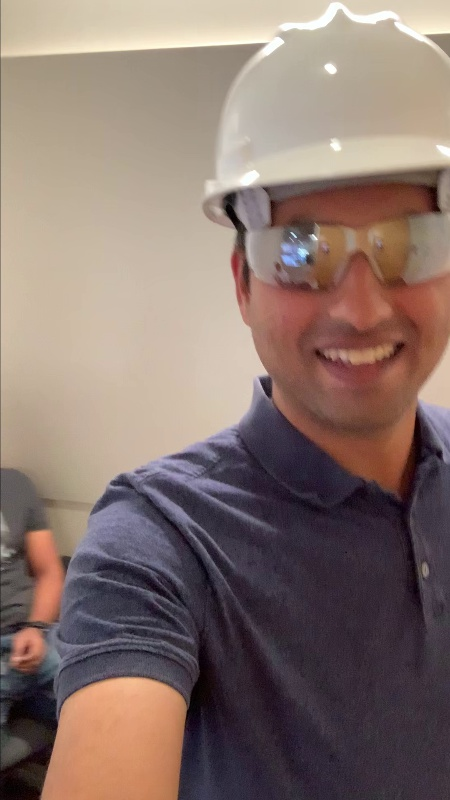glasses: (231, 209, 450, 287)
helmet: (203, 3, 450, 211)
